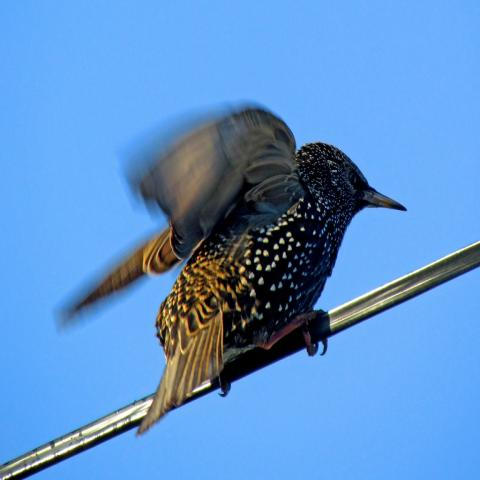bird: (55, 101, 408, 437)
